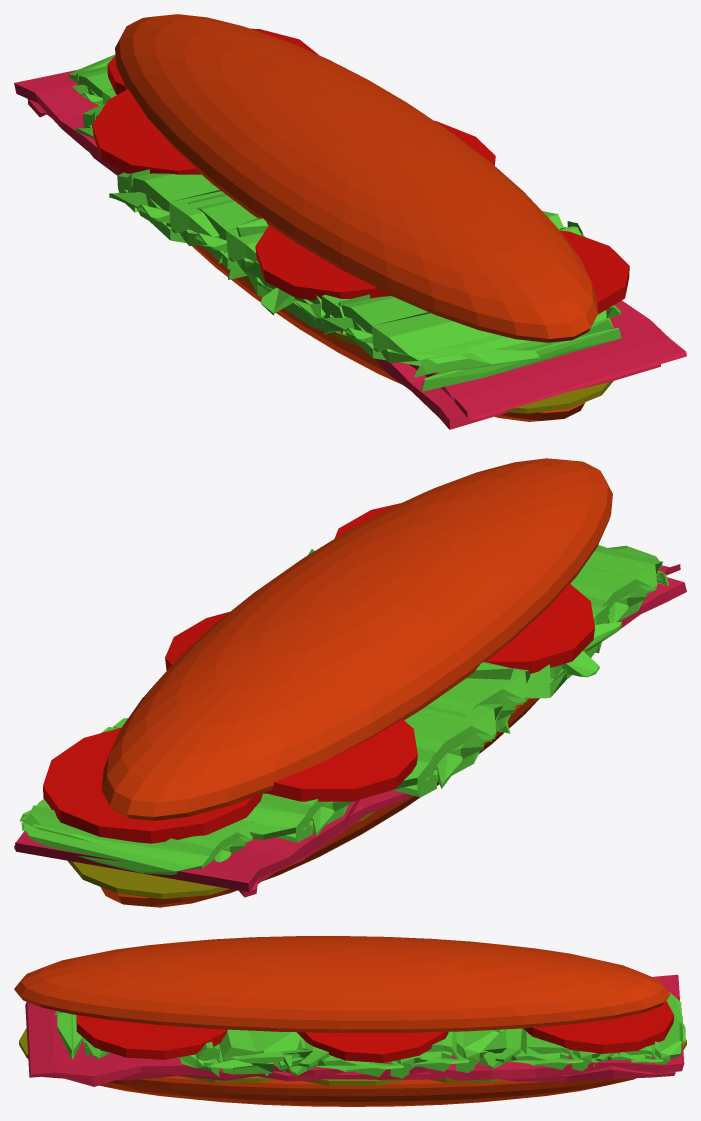
The model's file is subsanwich.obj.
3 renders of one model, top to bottom at view 1: azimuth 30°, elevation 25°; view 2: azimuth 150°, elevation 25°; view 3: azimuth 270°, elevation 25°, orthographic. The views are drawn at different scales.
Parts seen in each view (by area): view 1: bread.001_Sphere, meat.001_Cube.003, lettuce_green, lettuce.003_green, Cylinder.003_Cylinder.008, Cylinder.001_Cylinder.008, lettuce.001_green, lettuce.002_green, bread_Sphere, Cylinder_Cylinder.008, meat_Cube.003, Cheese_Cylinder.002 (+2 smaller); view 2: bread.001_Sphere, Cylinder.004_Cylinder.008, lettuce.005_green, Cylinder.003_Cylinder.008, lettuce.003_green, meat.001_Cube.003, Cylinder.001_Cylinder.008, lettuce_green, lettuce.004_green, lettuce.001_green, bread_Sphere, Cheese_Cylinder.002 (+3 smaller); view 3: bread.001_Sphere, bread_Sphere, meat.001_Cube.003, Cylinder_Cylinder.008, Cylinder.004_Cylinder.008, lettuce.001_green, Cylinder.002_Cylinder.008, meat_Cube.003, lettuce.004_green, lettuce.003_green, lettuce.002_green, lettuce.005_green (+2 smaller).
Part boxes in pixels (x1,y1,x2,y2): bread.001_Sphere: [115, 14, 597, 342]; meat.001_Cube.003: [14, 70, 686, 419]; lettuce_green: [321, 294, 621, 391]; lettuce.003_green: [109, 169, 247, 279]; Cylinder.003_Cylinder.008: [92, 89, 201, 174]; Cylinder.001_Cylinder.008: [255, 225, 390, 300]; lettuce.001_green: [236, 211, 584, 334]; lettuce.002_green: [166, 193, 263, 274]; bread_Sphere: [192, 245, 585, 421]; Cylinder_Cylinder.008: [560, 230, 629, 314]; meat_Cube.003: [27, 99, 660, 429]; Cheese_Cylinder.002: [241, 275, 613, 413]; bread.001_Sphere: [101, 458, 612, 820]; Cylinder.004_Cylinder.008: [43, 727, 265, 843]; lettuce.005_green: [20, 799, 253, 874]; Cylinder.003_Cylinder.008: [264, 719, 417, 801]; lettuce.003_green: [141, 697, 510, 797]; meat.001_Cube.003: [15, 564, 680, 891]; Cylinder.001_Cylinder.008: [486, 583, 594, 673]; lettuce_green: [570, 544, 668, 623]; lettuce.004_green: [101, 718, 352, 842]; lettuce.001_green: [308, 549, 621, 698]; bread_Sphere: [100, 698, 539, 907]; Cheese_Cylinder.002: [67, 698, 529, 898]; bread.001_Sphere: [14, 936, 670, 1032]; bread_Sphere: [99, 1076, 636, 1106]; meat.001_Cube.003: [25, 974, 684, 1086]; Cylinder_Cylinder.008: [76, 1015, 227, 1059]; Cylinder.004_Cylinder.008: [523, 1000, 674, 1053]; lettuce.001_green: [179, 1029, 311, 1076]; Cylinder.002_Cylinder.008: [297, 1032, 448, 1062]; meat_Cube.003: [41, 1066, 675, 1081]; lettuce.004_green: [480, 1028, 600, 1071]; lettuce.003_green: [388, 1029, 503, 1073]; lettuce.002_green: [265, 1040, 427, 1078]; lettuce.005_green: [592, 992, 685, 1066].
Bounding box in the file's own units: 6.06 × 3.4 × 14.77.
